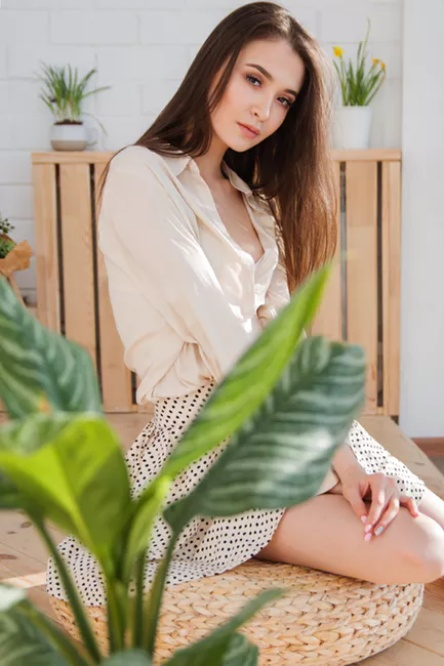face: (210, 40, 302, 153)
